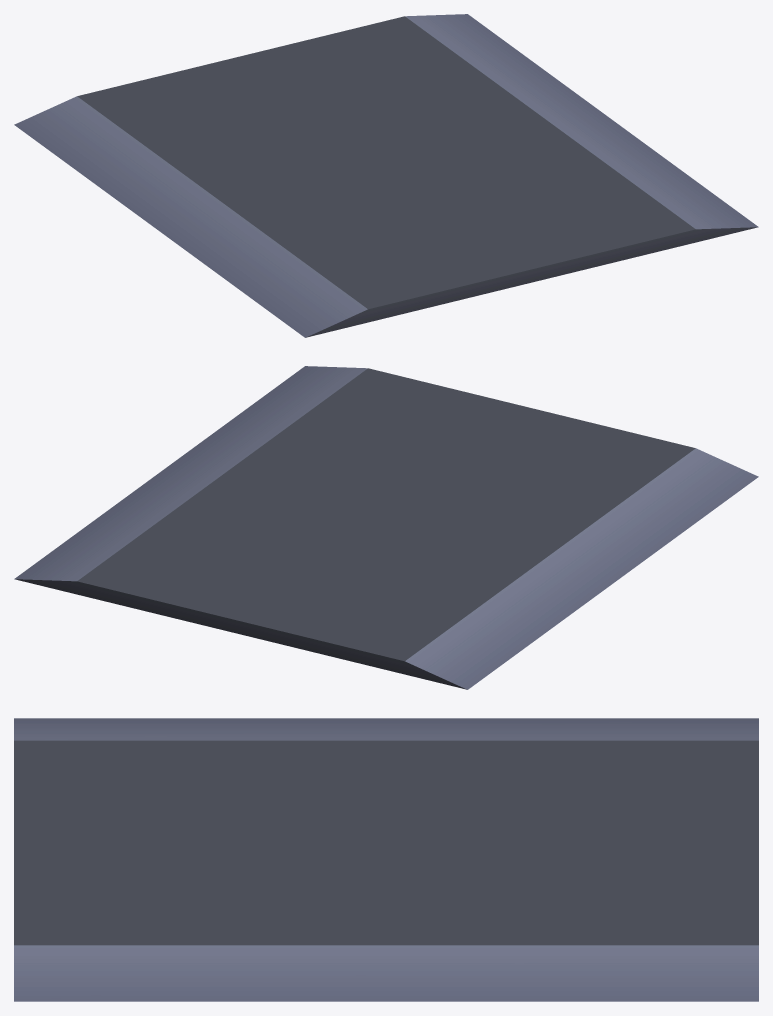
File: sub-driveway-long.glb
The picture shows the model from 3 angles, top to bottom: view 1: azimuth 30°, elevation 25°; view 2: azimuth 150°, elevation 25°; view 3: azimuth 270°, elevation 25°; orthographic projection. The views are drawn at different scales.
Parts seen in each view (by area): view 1: driveway-long; view 2: driveway-long; view 3: driveway-long.
Boxes of the visible parts, left/top/right/bottom form: driveway-long: left=14, top=14, right=758, bottom=337; driveway-long: left=14, top=366, right=758, bottom=689; driveway-long: left=14, top=718, right=758, bottom=1001.
Size of the model in its own units: 3.6 by 0.1001 by 4.
Materials: 1 (1 with a texture image).
